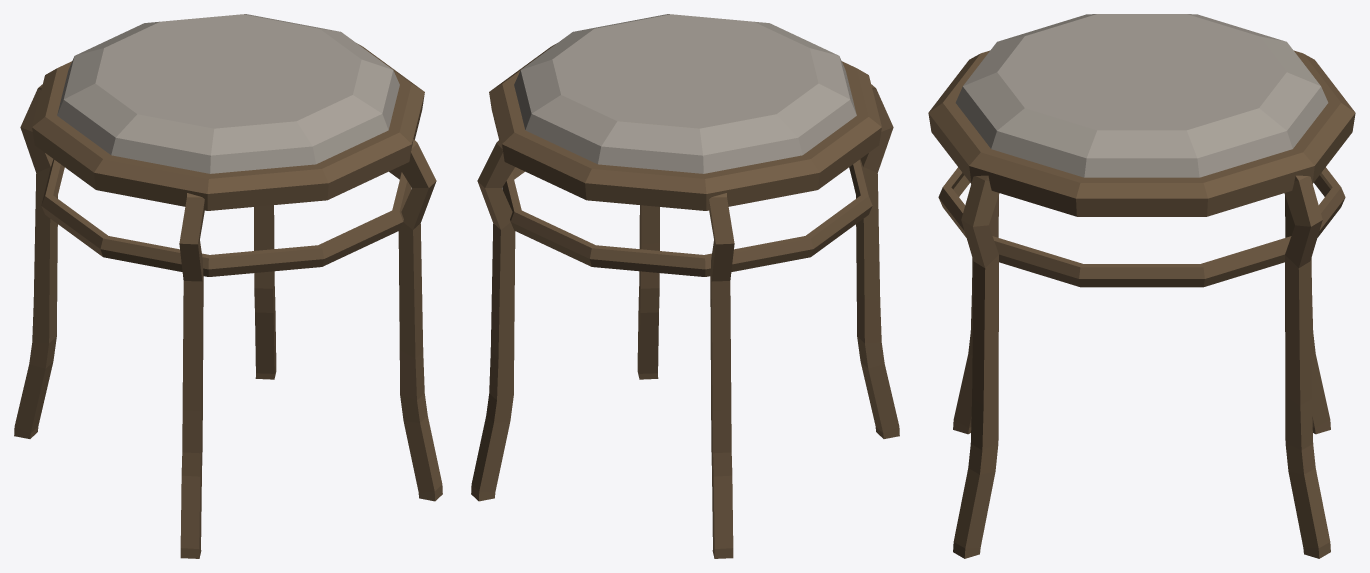
File: Stool.gltf
3 renders of one model, left to right at view 1: azimuth 30°, elevation 25°; view 2: azimuth 150°, elevation 25°; view 3: azimuth 270°, elevation 25°, orthographic. The views are drawn at different scales.
Parts seen in each view (by area): view 1: Stool; view 2: Stool; view 3: Stool.
Part boxes in pixels (bbox=[...]): Stool: bbox=[14, 14, 442, 558]; Stool: bbox=[471, 14, 899, 558]; Stool: bbox=[928, 14, 1355, 558].
Bounding box in the file's own units: 0.5072 × 0.5768 × 0.5334.
